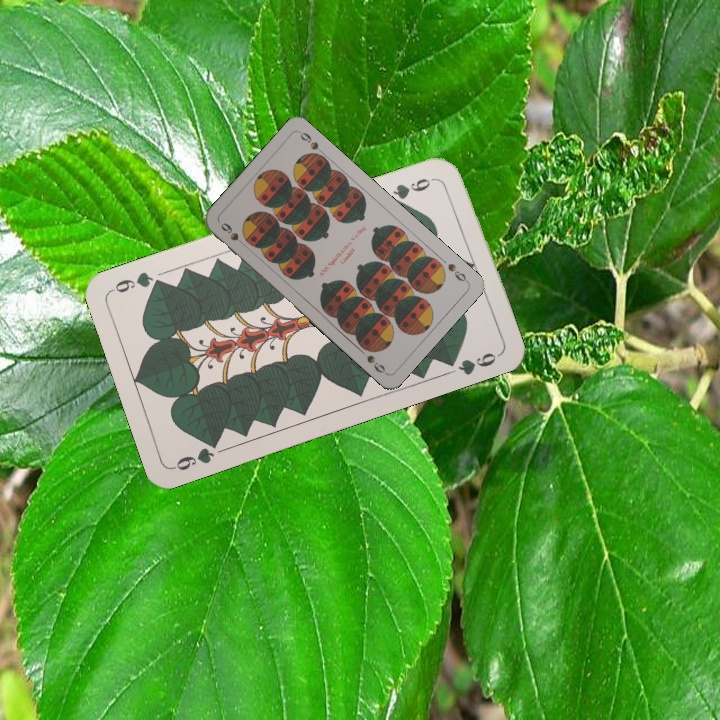G9: (170, 435, 223, 473), (385, 173, 440, 207)
S9: (217, 218, 249, 250), (443, 259, 470, 285)
